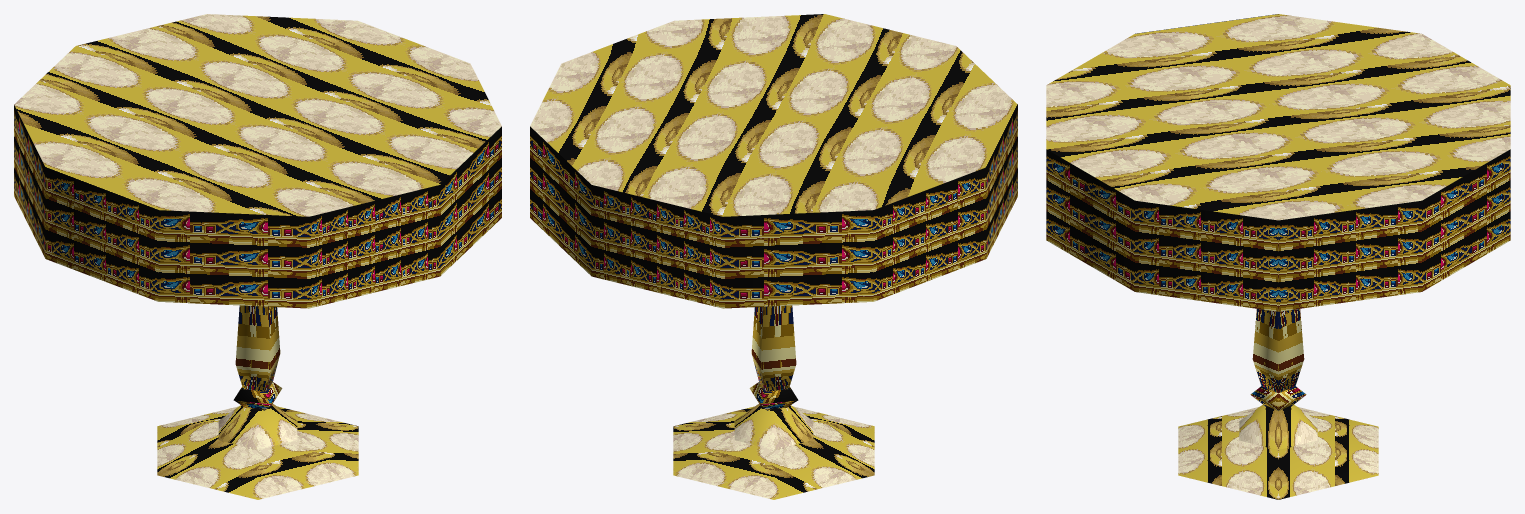
The picture shows the model from 3 angles, left to right: view 1: azimuth 30°, elevation 25°; view 2: azimuth 150°, elevation 25°; view 3: azimuth 270°, elevation 25°; orthographic projection.
Visible parts, largest first — view 1: 3705kg_tr_ta0; view 2: 3705kg_tr_ta0; view 3: 3705kg_tr_ta0.
Part boxes in pixels (<box>): 3705kg_tr_ta0: <box>14,14,501,499</box>; 3705kg_tr_ta0: <box>530,14,1017,499</box>; 3705kg_tr_ta0: <box>1046,14,1510,499</box>.
Size of the model in its own units: 0.9946 by 0.75 by 0.9458.
2 materials, 2 textured.
